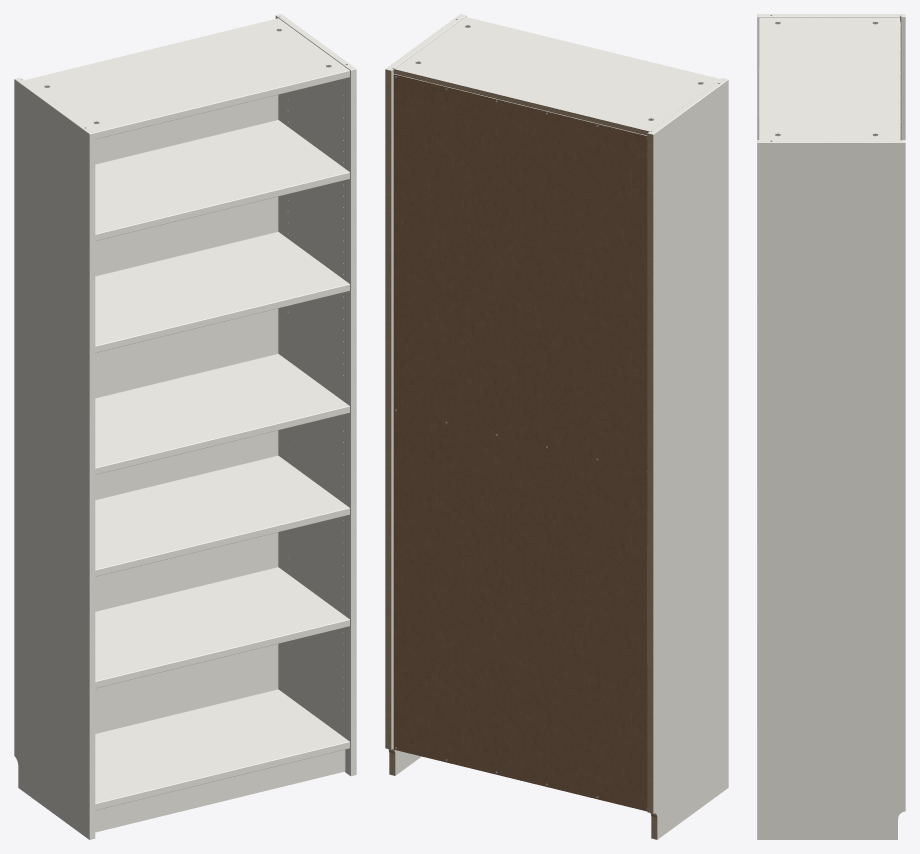
3 renders of one model, left to right at view 1: azimuth 30°, elevation 25°; view 2: azimuth 150°, elevation 25°; view 3: azimuth 270°, elevation 25°, orthographic.
Parts seen in each view (by area): view 1: world; view 2: world; view 3: world.
Boxes of the visible parts, <box> form: world: <box>14,14,356,839</box>; world: <box>385,14,728,839</box>; world: <box>757,14,905,839</box>.
Size of the model in its own units: 0.8 by 2.02 by 0.39.
Materials: 1 (1 with a texture image).
